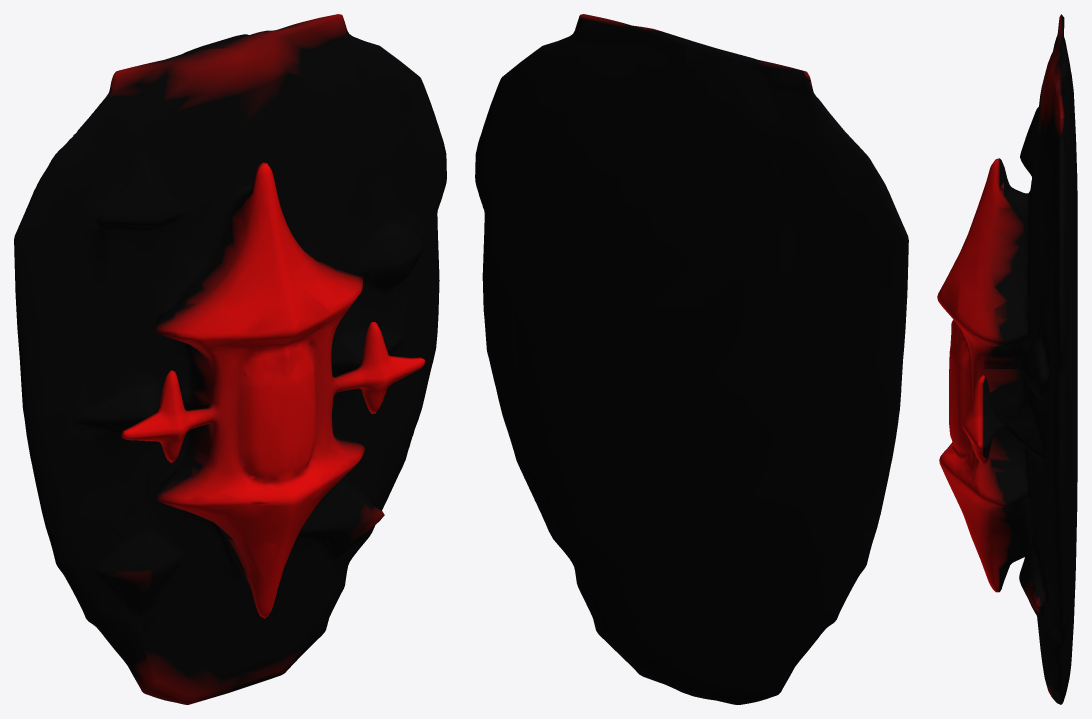
3 renders of one model, left to right at view 1: azimuth 30°, elevation 25°; view 2: azimuth 150°, elevation 25°; view 3: azimuth 270°, elevation 25°, orthographic. The views are drawn at different scales.
Parts seen in each view (by area): view 1: geometry_0; view 2: geometry_0; view 3: geometry_0.
Boxes of the visible parts, left/top/right/bottom form: geometry_0: left=14, top=14, right=446, bottom=704; geometry_0: left=475, top=14, right=908, bottom=704; geometry_0: left=937, top=14, right=1077, bottom=704.
Bounding box in the file's own units: 0.6927 × 1 × 0.2042.
